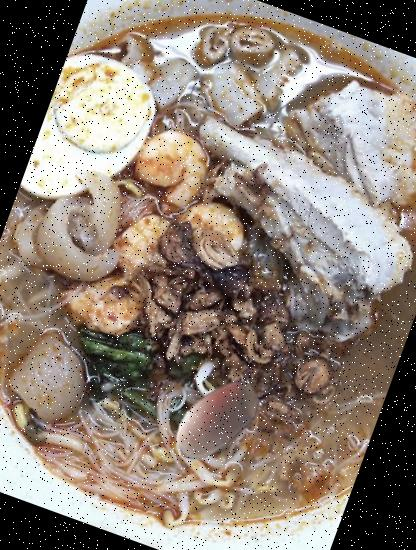Hazelnut: (150, 358, 278, 485)
